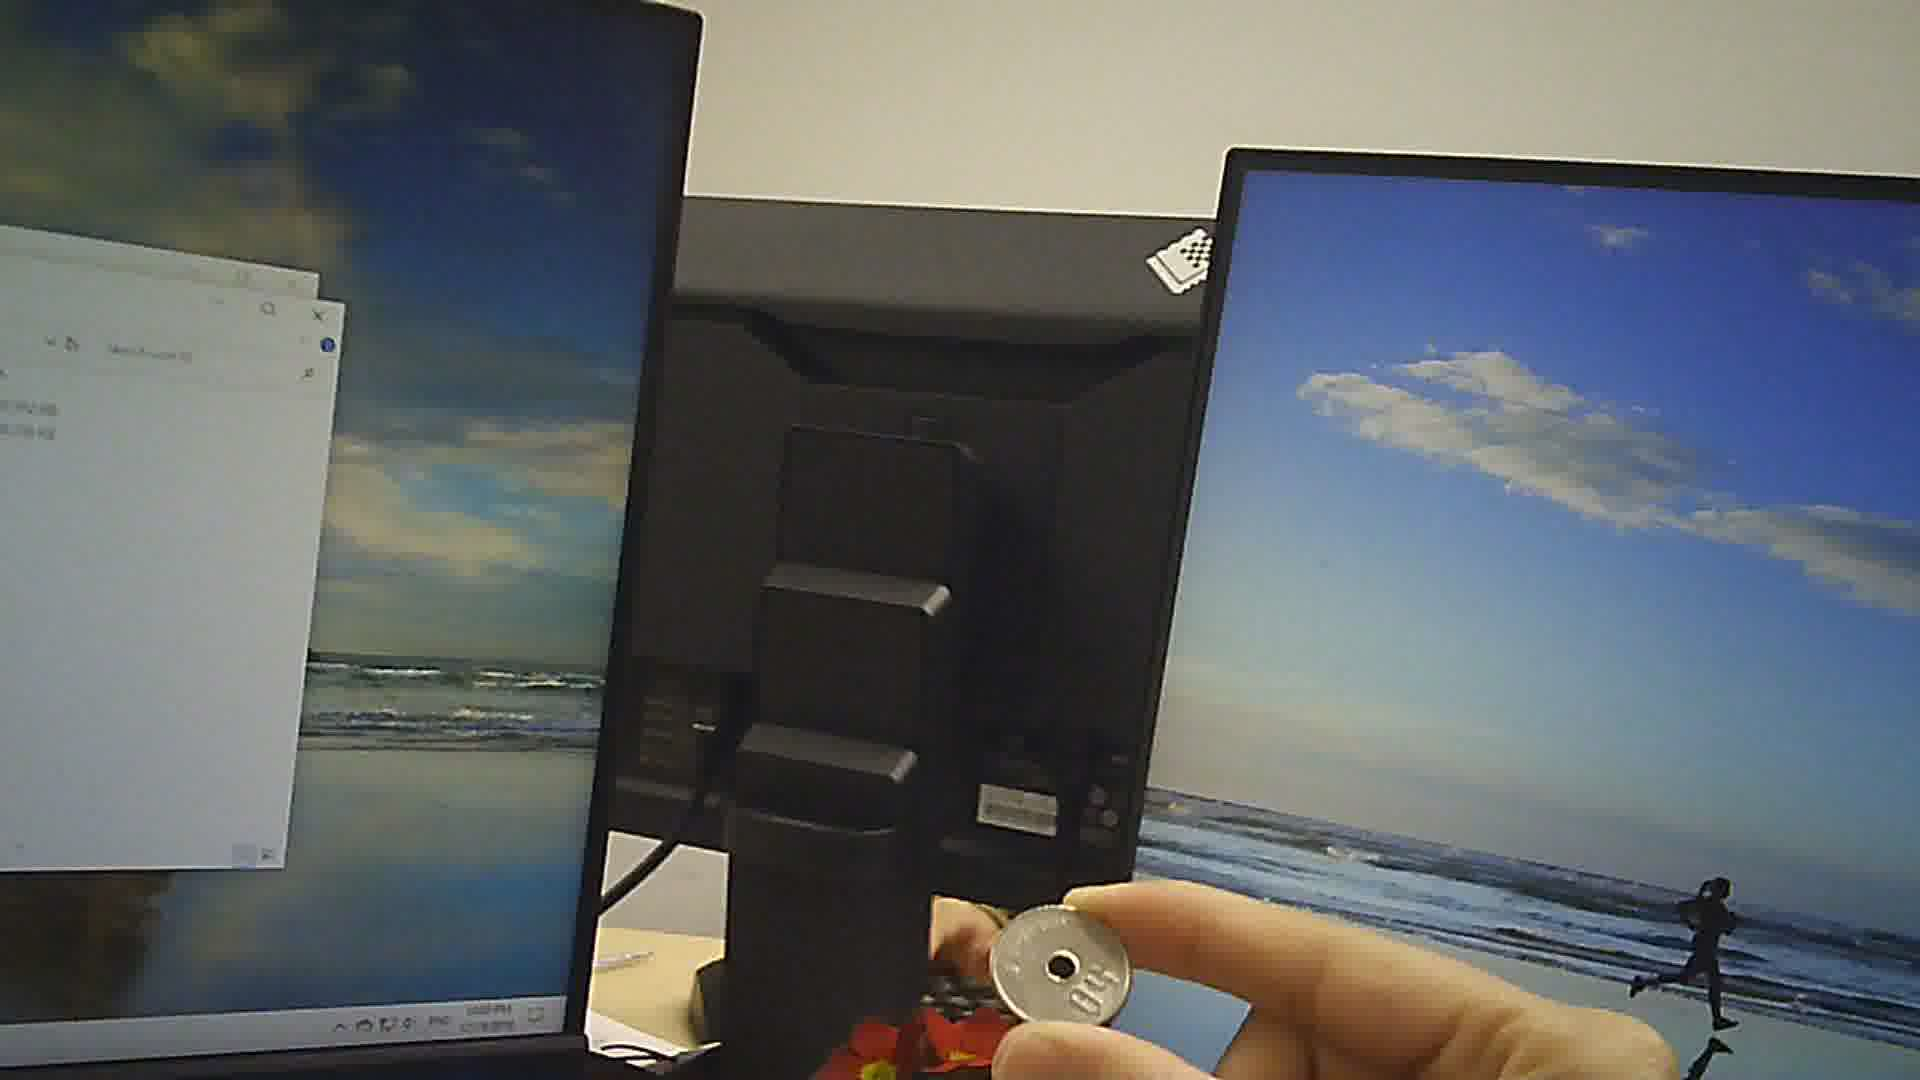50 Yen: (982, 897, 1139, 1033)
